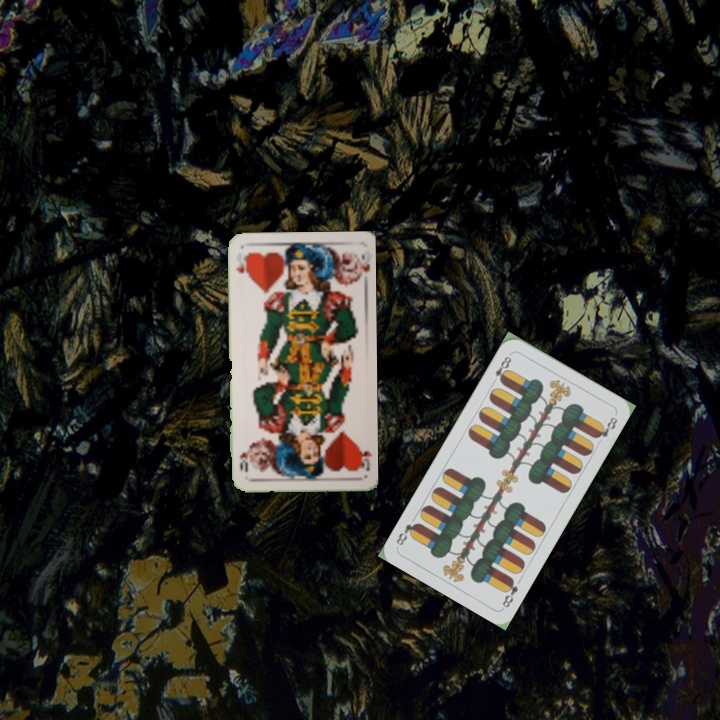E8: (488, 350, 514, 387), (498, 574, 521, 610)
HO: (354, 439, 373, 474), (232, 248, 250, 281)
